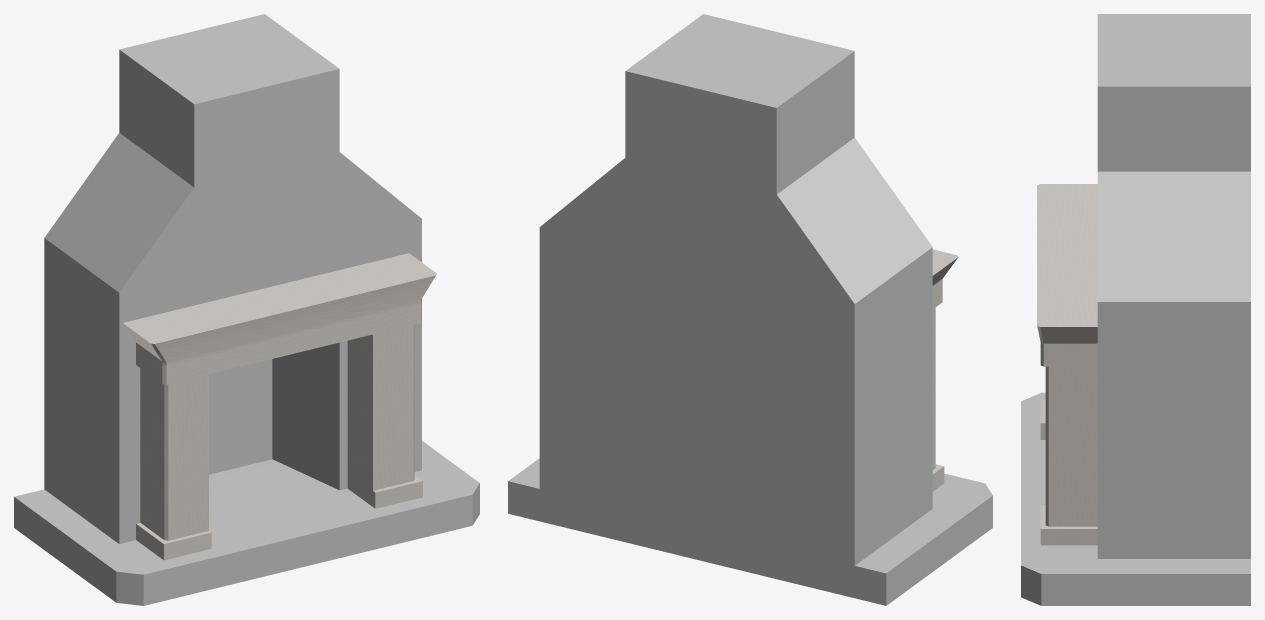
File: Fireplace_02.FBX
3 views of the same model, side by side, from view 1: azimuth 30°, elevation 25°; view 2: azimuth 150°, elevation 25°; view 3: azimuth 270°, elevation 25° (orthographic). The views are drawn at different scales.
Visible parts, largest first — view 1: Fireplace_Box; view 2: Fireplace_Box; view 3: Fireplace_Box.
Part boxes in pixels (x1=…): Fireplace_Box: x1=14, y1=14, x2=479, y2=605; Fireplace_Box: x1=508, y1=14, x2=992, y2=605; Fireplace_Box: x1=1021, y1=14, x2=1250, y2=605.
Bounding box in the file's own units: 16535 × 19685 × 8858.
